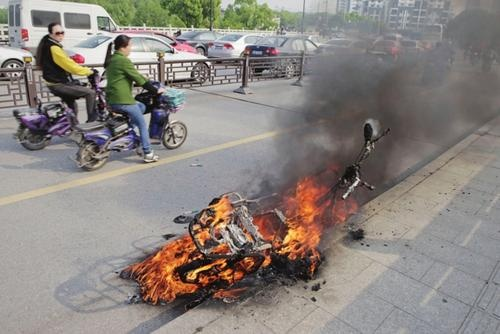fire: (132, 156, 366, 307)
